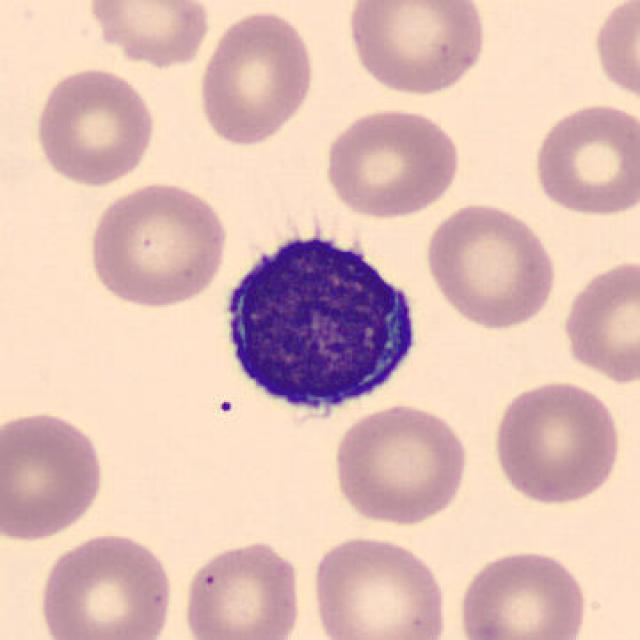Lymphocyte: (208, 220, 425, 430)
RBC: (85, 178, 231, 310), (420, 198, 560, 332), (329, 400, 471, 527), (489, 376, 624, 508), (194, 7, 318, 148), (320, 104, 462, 222), (34, 529, 178, 640), (30, 64, 158, 188), (307, 530, 449, 640), (0, 405, 108, 543), (343, 0, 491, 99), (178, 536, 308, 640), (528, 99, 638, 220), (453, 545, 592, 640), (556, 256, 640, 386), (84, 0, 214, 69), (588, 0, 638, 104)
